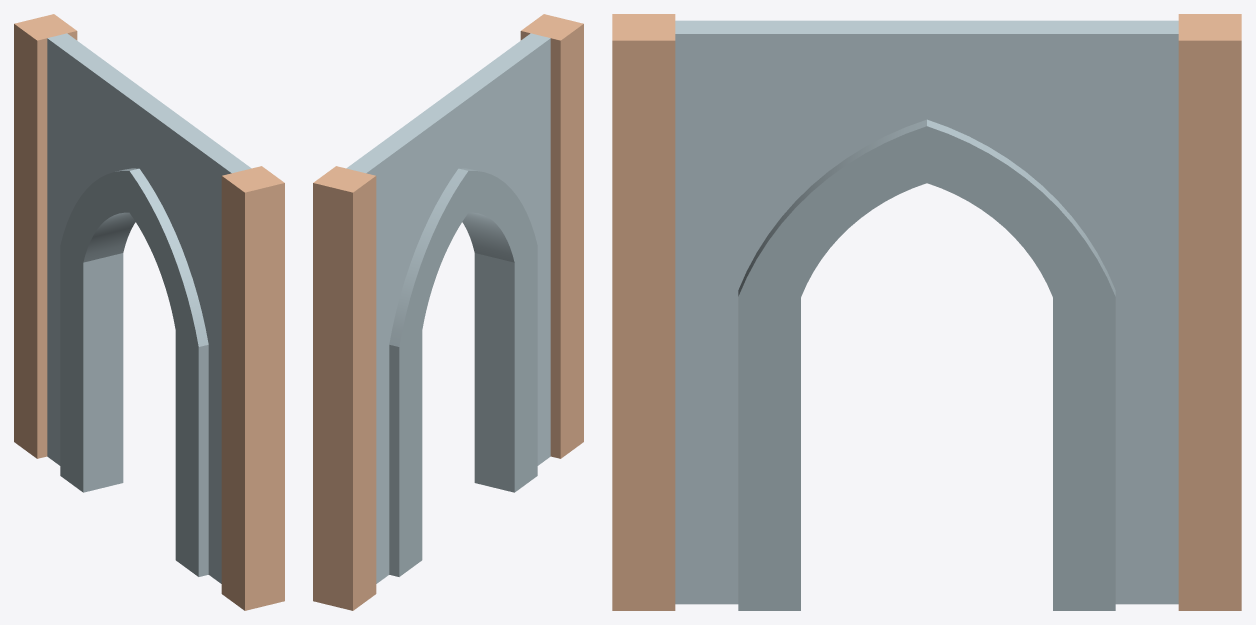
Rendered from wallDoorwayRound.glb.
3 renders of one model, left to right at view 1: azimuth 30°, elevation 25°; view 2: azimuth 150°, elevation 25°; view 3: azimuth 270°, elevation 25°, orthographic. The views are drawn at different scales.
Visible parts, largest first — view 1: wallDoorwayRound; view 2: wallDoorwayRound; view 3: wallDoorwayRound.
Part boxes in pixels (bbox=[...]): wallDoorwayRound: bbox=[14, 14, 284, 610]; wallDoorwayRound: bbox=[313, 14, 583, 610]; wallDoorwayRound: bbox=[612, 14, 1241, 610].
Bounding box in the file's own units: 0.1 × 1 × 1.
